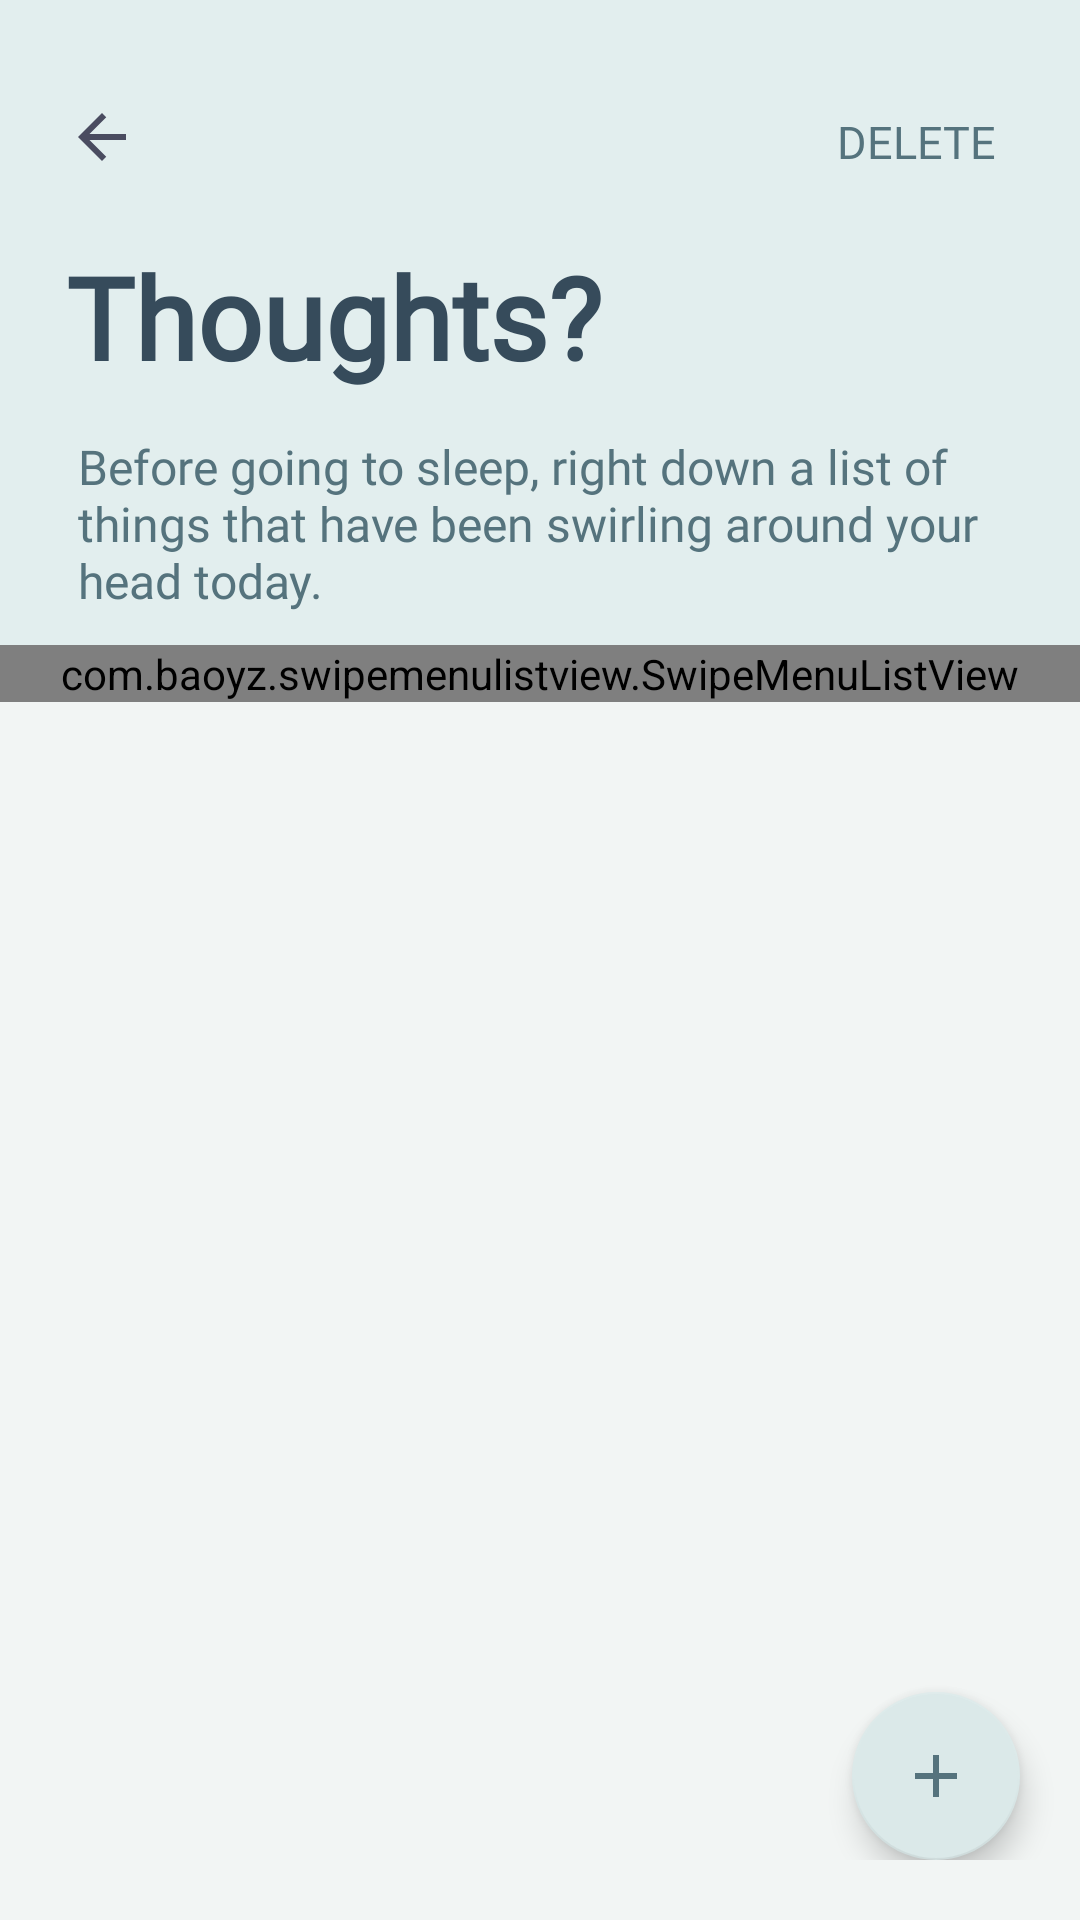

Point at icon controls on the screen. Image size 1080 × 1920, points as (x=x, y=y).
add: (x=936, y=1776)
back: (x=102, y=137)
